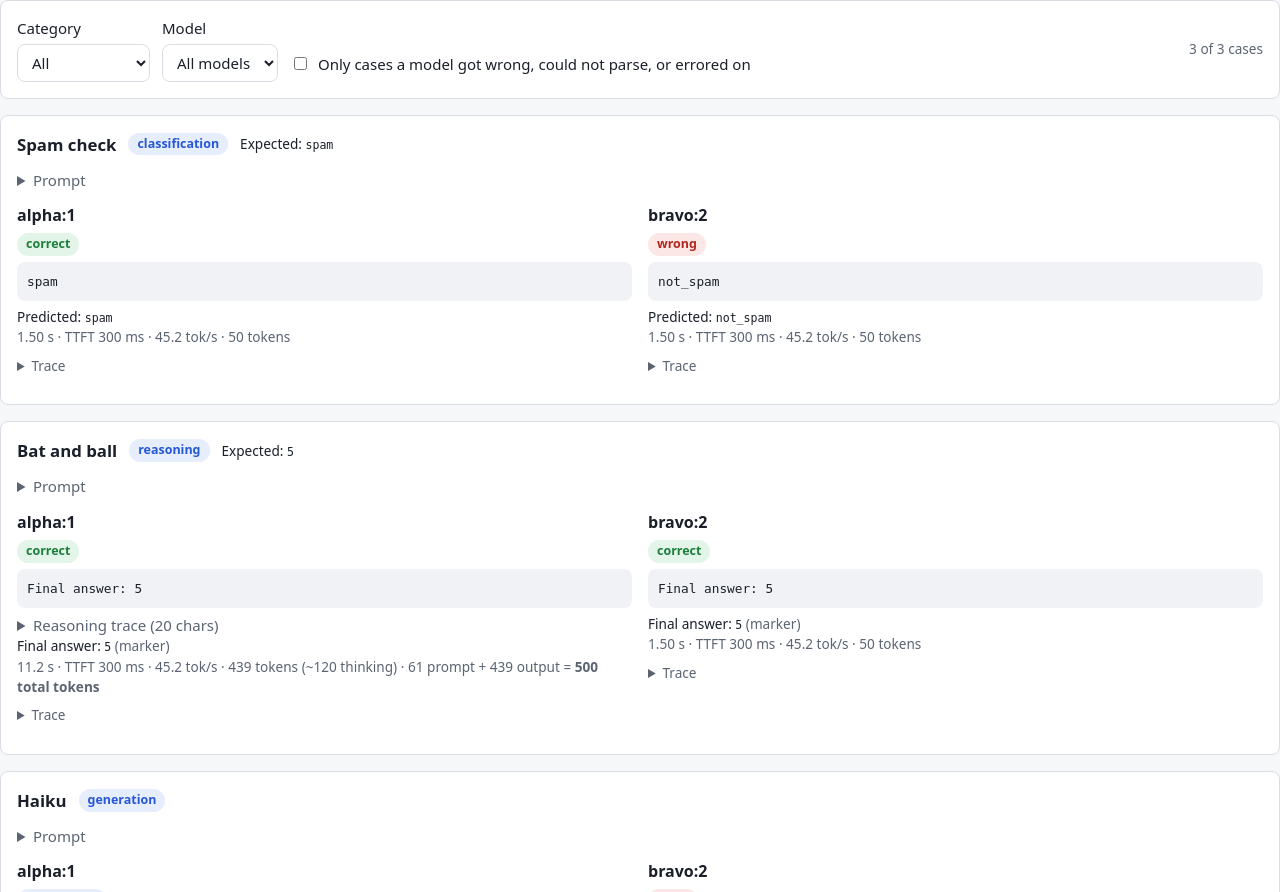
Test case: 9.8 case drill-down › shows the prompt as sent, including the template version
The width and height of the screenshot is (1280, 892).
Click the heading "Prompt" below "Spam check" at [59, 180], box [33, 170, 86, 190]
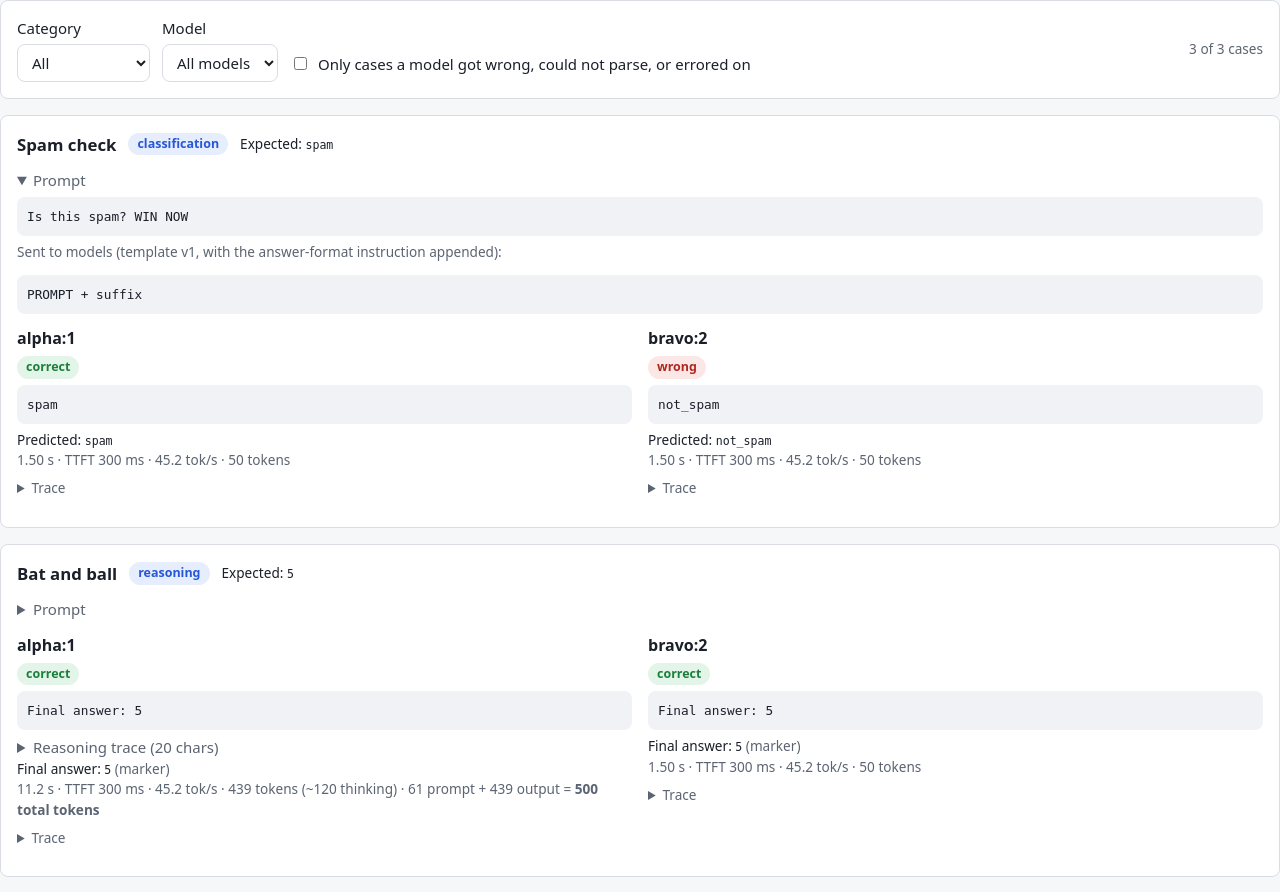
Now the text "template v1" is shown, box [17, 242, 502, 261]
Now the text "PROMPT + suffix" is shown, box [17, 275, 1263, 314]
